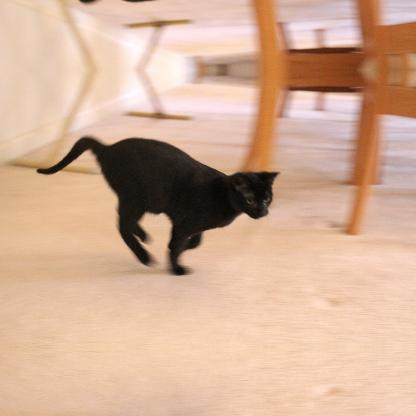Cat: (34, 133, 278, 273)
